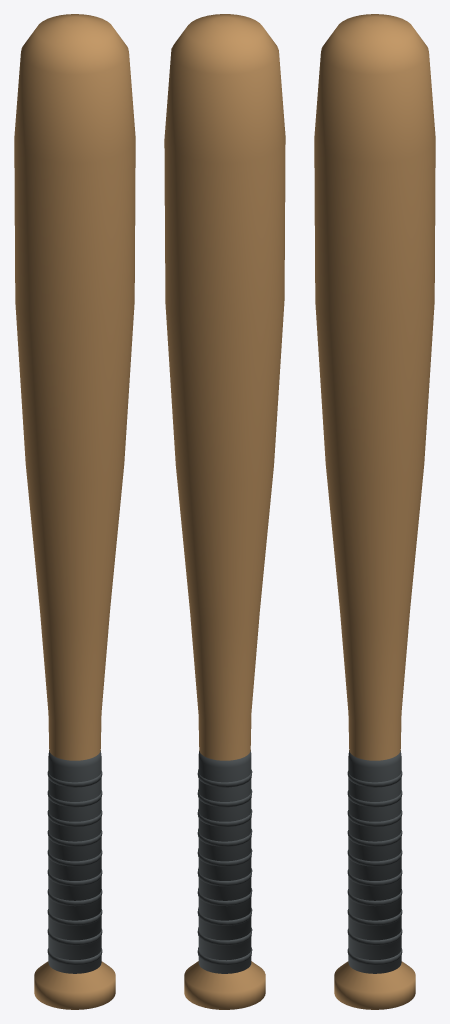
File: baseball-bat.glb
3 views of the same model, side by side, from view 1: azimuth 90°, elevation 25°; view 2: azimuth 150°, elevation 25°; view 3: azimuth 270°, elevation 25° (orthographic).
Parts seen in each view (by area): view 1: Shaped baseball bat, Handle wrap, Grip winding 03, Grip winding 01, Grip winding 02, Grip winding 04, Grip winding 07, Grip winding 00, Grip winding 06, Grip winding 08, Grip winding 09, Grip winding 05; view 2: Shaped baseball bat, Handle wrap, Grip winding 07, Grip winding 08, Grip winding 04, Grip winding 02, Grip winding 03, Grip winding 00, Grip winding 01, Grip winding 05, Grip winding 06, Grip winding 09; view 3: Shaped baseball bat, Handle wrap, Grip winding 03, Grip winding 01, Grip winding 02, Grip winding 04, Grip winding 07, Grip winding 00, Grip winding 06, Grip winding 08, Grip winding 09, Grip winding 05.
Boxes of the visible parts, x1=… form: Shaped baseball bat: x1=14, y1=14, x2=135, y2=1009; Handle wrap: x1=48, y1=750, x2=101, y2=973; Grip winding 03: x1=47, y1=889, x2=102, y2=906; Grip winding 01: x1=47, y1=929, x2=102, y2=945; Grip winding 02: x1=47, y1=909, x2=102, y2=925; Grip winding 04: x1=47, y1=869, x2=102, y2=886; Grip winding 07: x1=47, y1=810, x2=102, y2=826; Grip winding 00: x1=47, y1=948, x2=102, y2=965; Grip winding 06: x1=47, y1=830, x2=102, y2=846; Grip winding 08: x1=47, y1=790, x2=102, y2=807; Grip winding 09: x1=47, y1=771, x2=102, y2=787; Grip winding 05: x1=47, y1=850, x2=102, y2=866; Shaped baseball bat: x1=164, y1=14, x2=285, y2=1009; Handle wrap: x1=198, y1=750, x2=251, y2=973; Grip winding 07: x1=197, y1=809, x2=252, y2=826; Grip winding 08: x1=197, y1=789, x2=252, y2=807; Grip winding 04: x1=197, y1=868, x2=252, y2=886; Grip winding 02: x1=197, y1=907, x2=252, y2=925; Grip winding 03: x1=197, y1=888, x2=252, y2=906; Grip winding 00: x1=197, y1=947, x2=252, y2=965; Grip winding 01: x1=197, y1=927, x2=252, y2=945; Grip winding 05: x1=197, y1=848, x2=252, y2=866; Grip winding 06: x1=197, y1=828, x2=252, y2=846; Grip winding 09: x1=197, y1=769, x2=252, y2=787; Shaped baseball bat: x1=314, y1=14, x2=435, y2=1009; Handle wrap: x1=348, y1=750, x2=401, y2=973; Grip winding 03: x1=347, y1=889, x2=402, y2=906; Grip winding 01: x1=347, y1=929, x2=402, y2=945; Grip winding 02: x1=347, y1=909, x2=402, y2=925; Grip winding 04: x1=347, y1=869, x2=402, y2=886; Grip winding 07: x1=347, y1=810, x2=402, y2=826; Grip winding 00: x1=347, y1=948, x2=402, y2=965; Grip winding 06: x1=347, y1=830, x2=402, y2=846; Grip winding 08: x1=347, y1=790, x2=402, y2=807; Grip winding 09: x1=347, y1=771, x2=402, y2=787; Grip winding 05: x1=347, y1=850, x2=402, y2=866.
Bounding box in the file's own units: 0.128 × 1.14 × 0.128.
